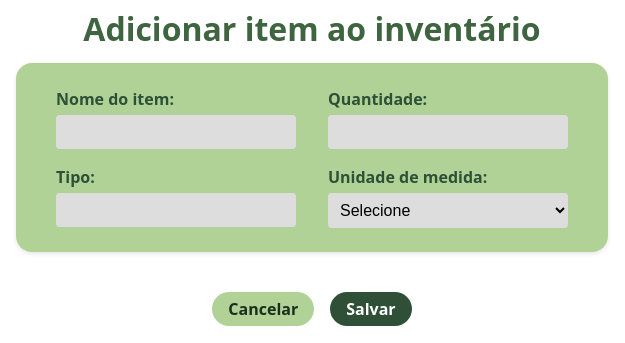
InventoryCreate › desabilita inputs e botão durante o carregamento
Type "Farinha" into the field labelled "Nome do item:" at (176, 132), box [56,115,296,149]
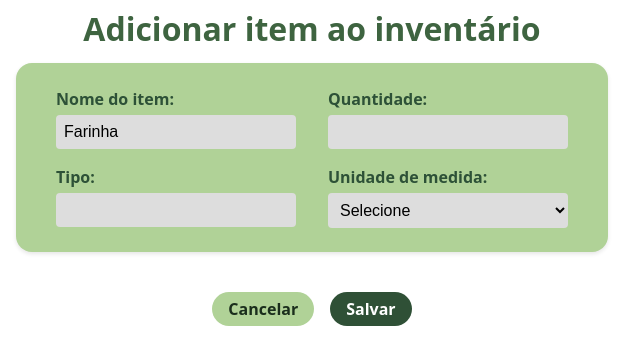
Type "Ingrediente" into the field labelled "Tipo:" at (176, 210), box [56,193,296,227]
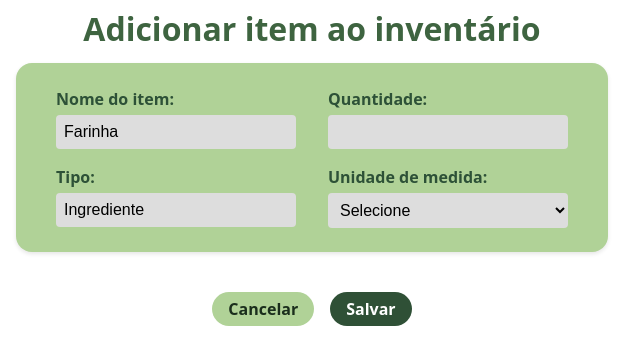
Type "10" into the number field labelled "Quantidade:" at (448, 132), box [328,115,568,149]
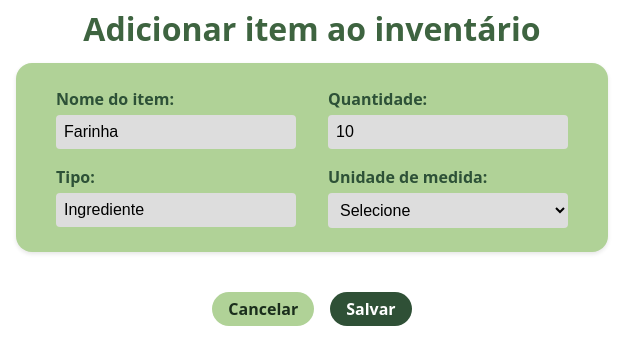
Select "kg" in the dropdown labelled "Unidade de medida:" at (448, 210), box [328,193,568,228]
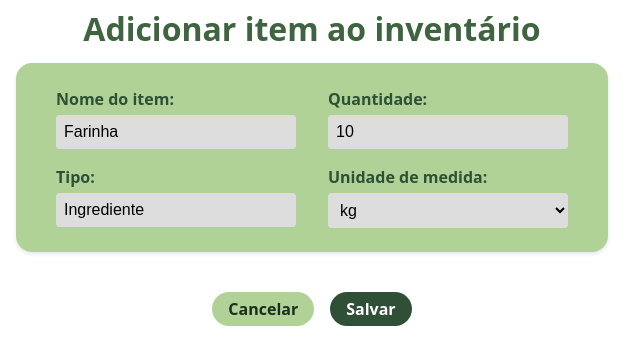
Click the button "Salvar" at (371, 309), box [330,292,412,326]
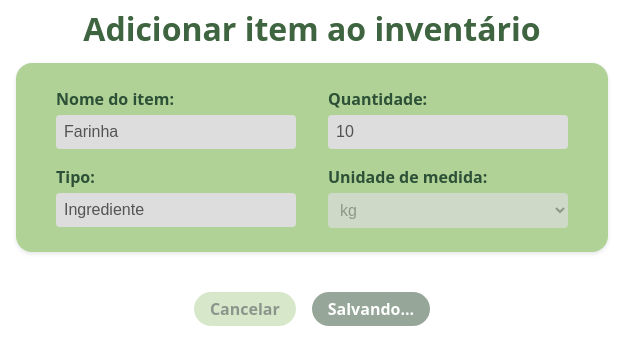
Check: the button "Salvando..." is disabled, box [312,292,430,326]
Check: the field labelled "Nome do item:" is disabled, box [56,115,296,149]
